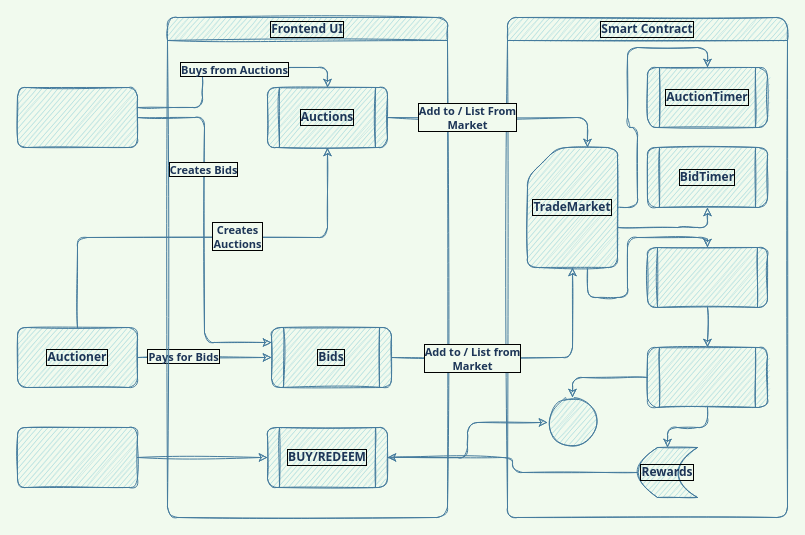
This 805x535 diagram has some shape labels left out. Here are the shapes that lost their labels. From the top down, the box of each, then its label:
(16, 86, 138, 148): Bidder
(646, 246, 768, 308): FeeTreasury
(646, 346, 768, 408): UserClaims
(546, 396, 598, 448): NFT
(16, 426, 138, 488): User
